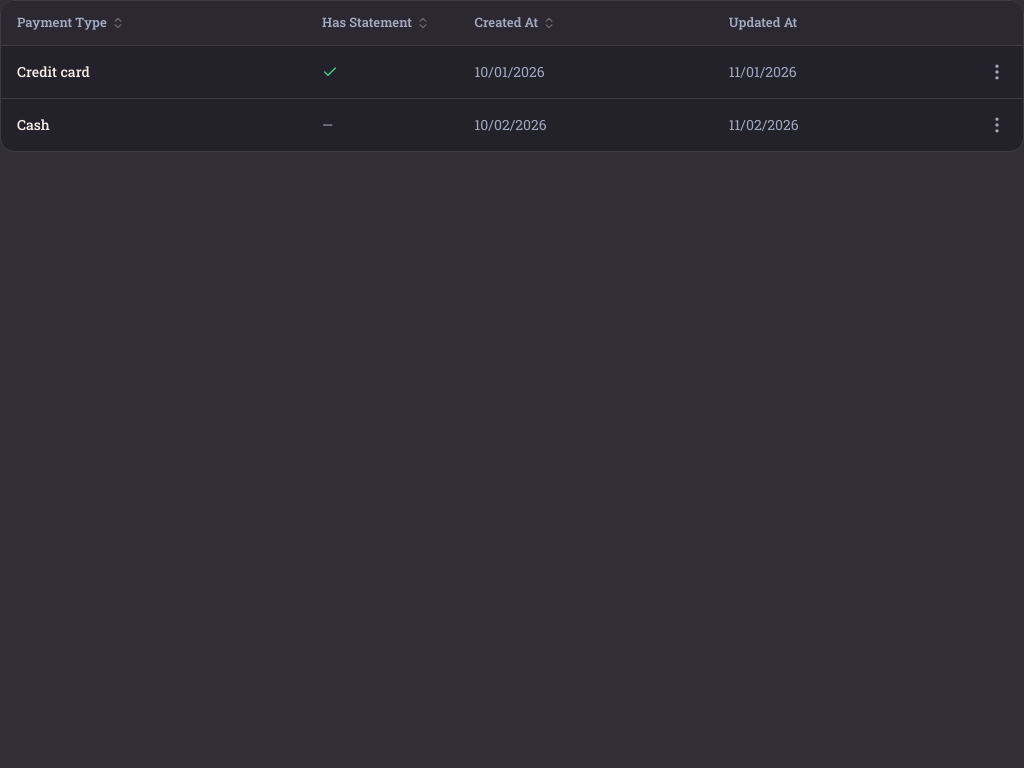
Test case: PaymentTypeTable › edits a payment type and closes the modal on success
Step 1. Click the button without text in the row of "Cash" → (997, 124), box left=979, top=106, right=1015, bottom=142
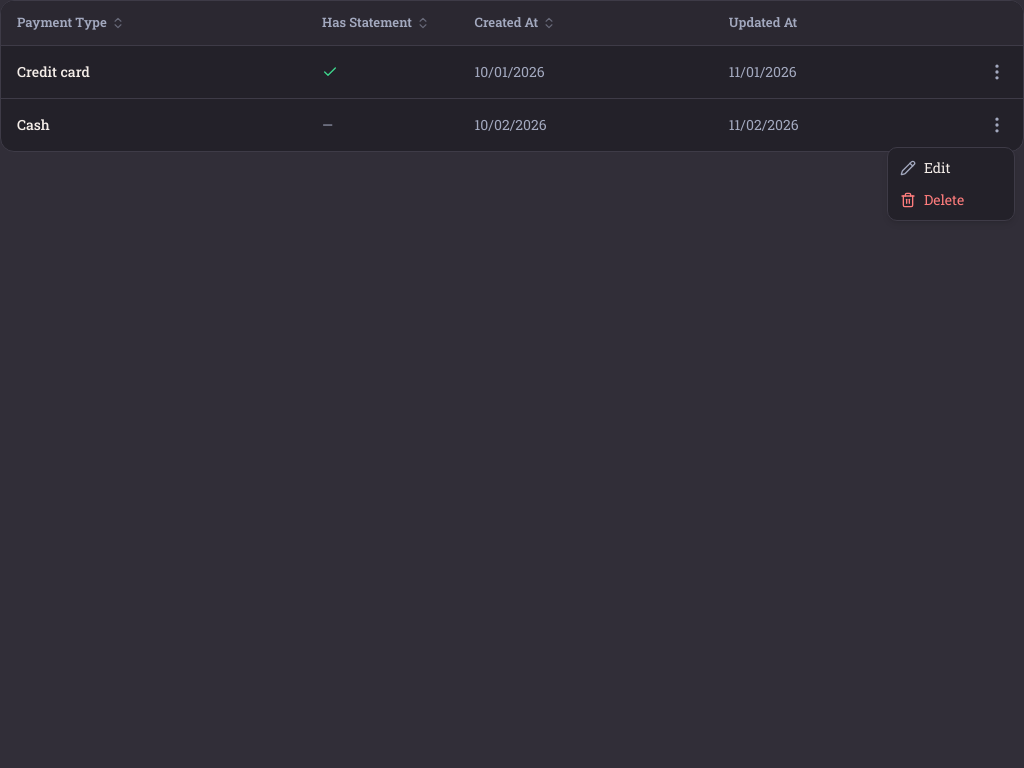
Step 2. Click the menu item "Edit" → (925, 168), box left=900, top=158, right=951, bottom=177
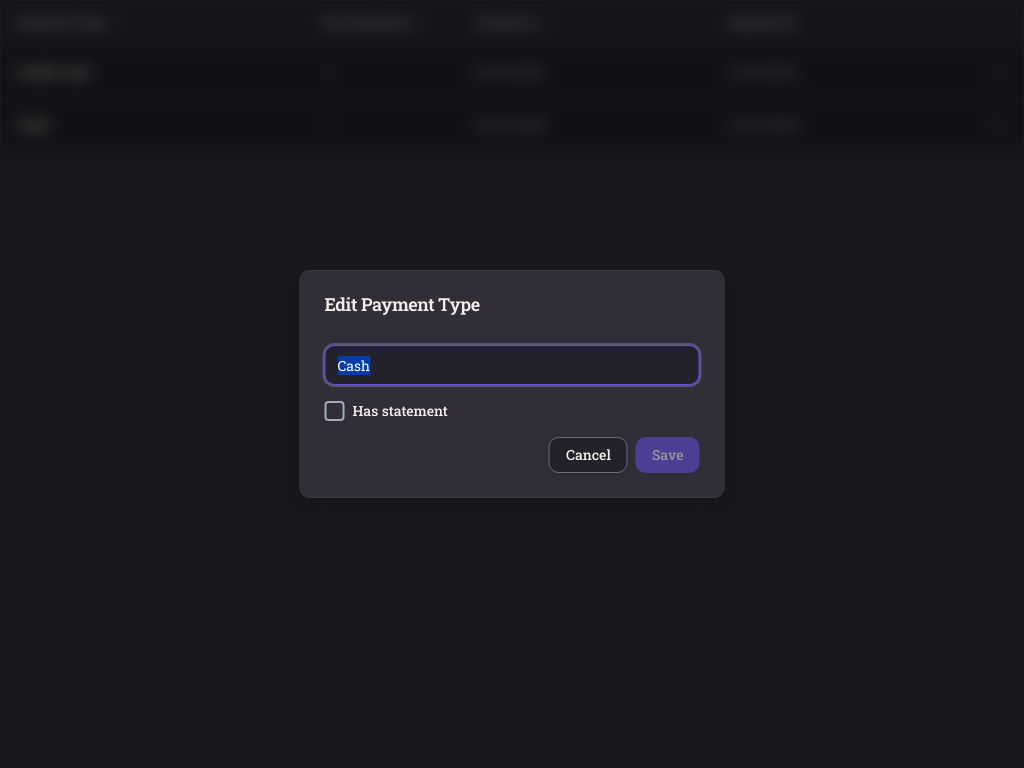
Step 3. Replace the text in the field with placeholder "Payment type description" with "Pix" → (512, 365), box left=338, top=346, right=686, bottom=384
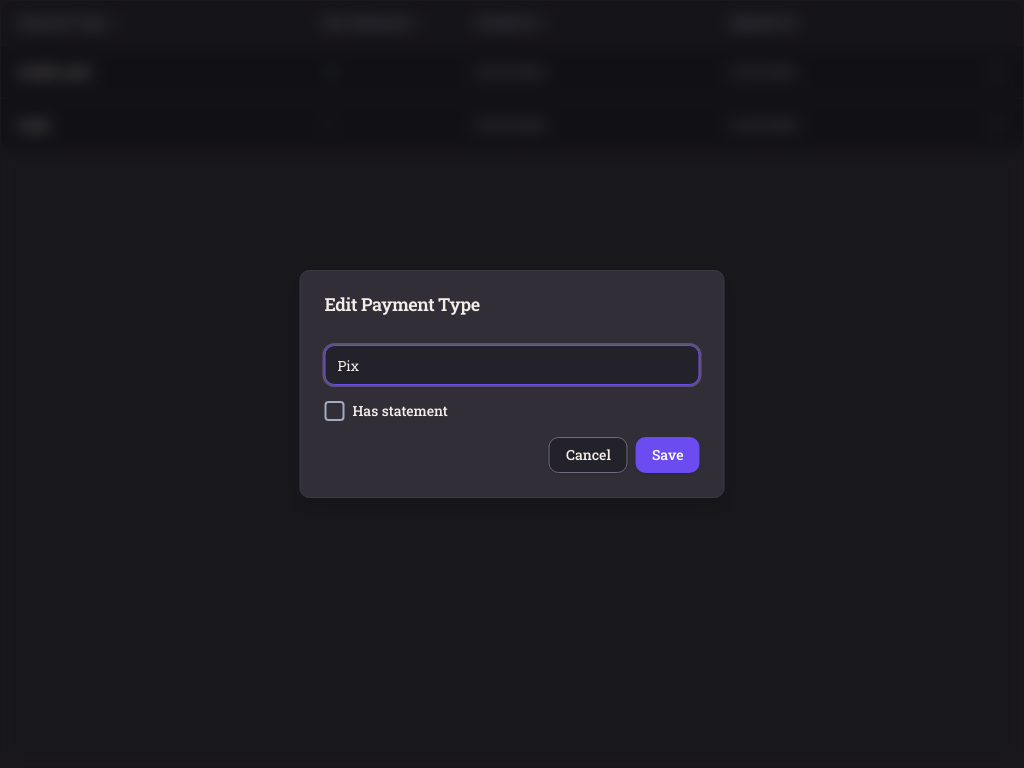
Step 4. Click the checkbox labelled "Has statement" → (386, 411), box left=324, top=401, right=448, bottom=421
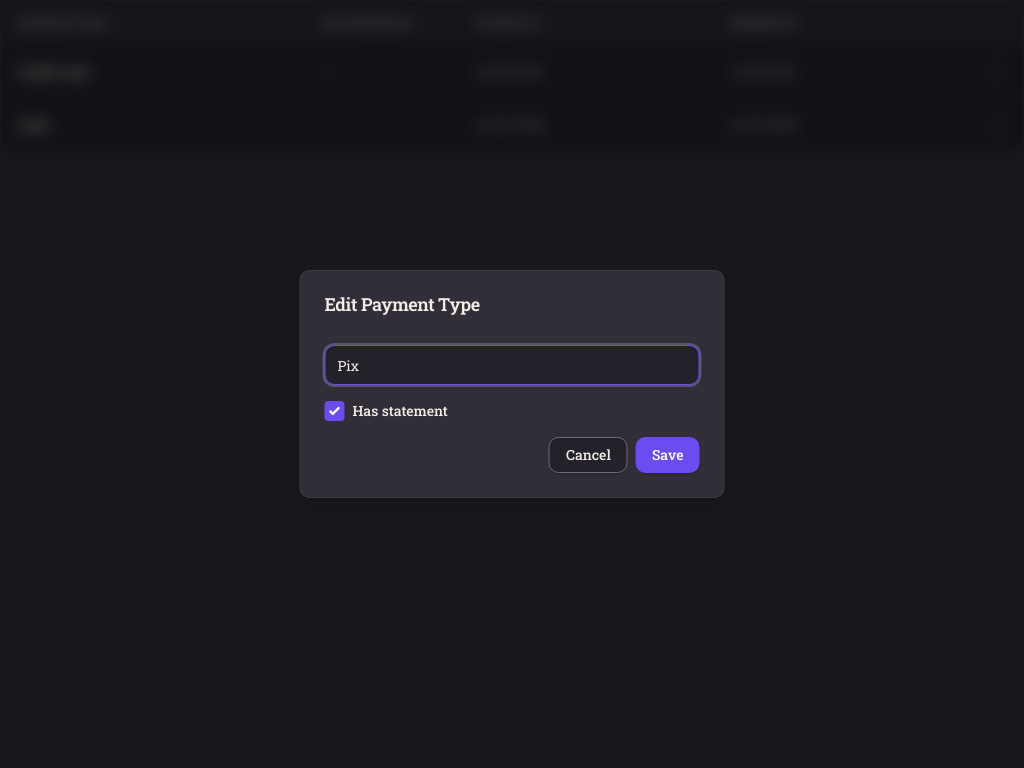
Step 5. Click the button "Save" → (668, 455), box left=636, top=437, right=700, bottom=473
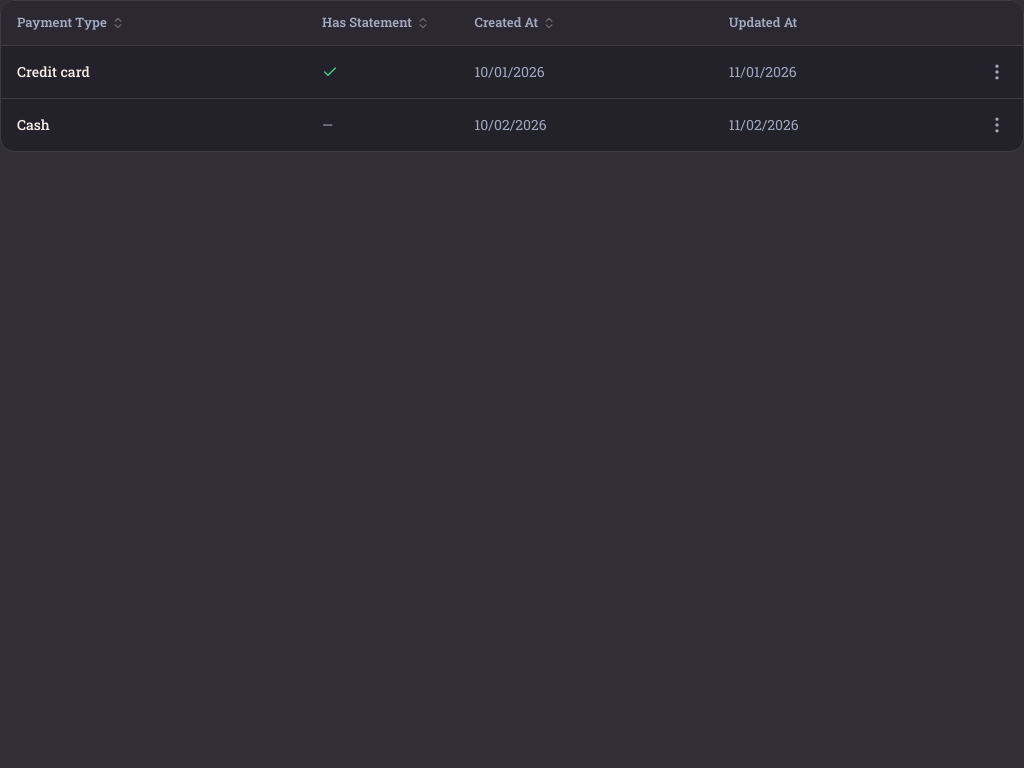
Expected: the dialog is gone
